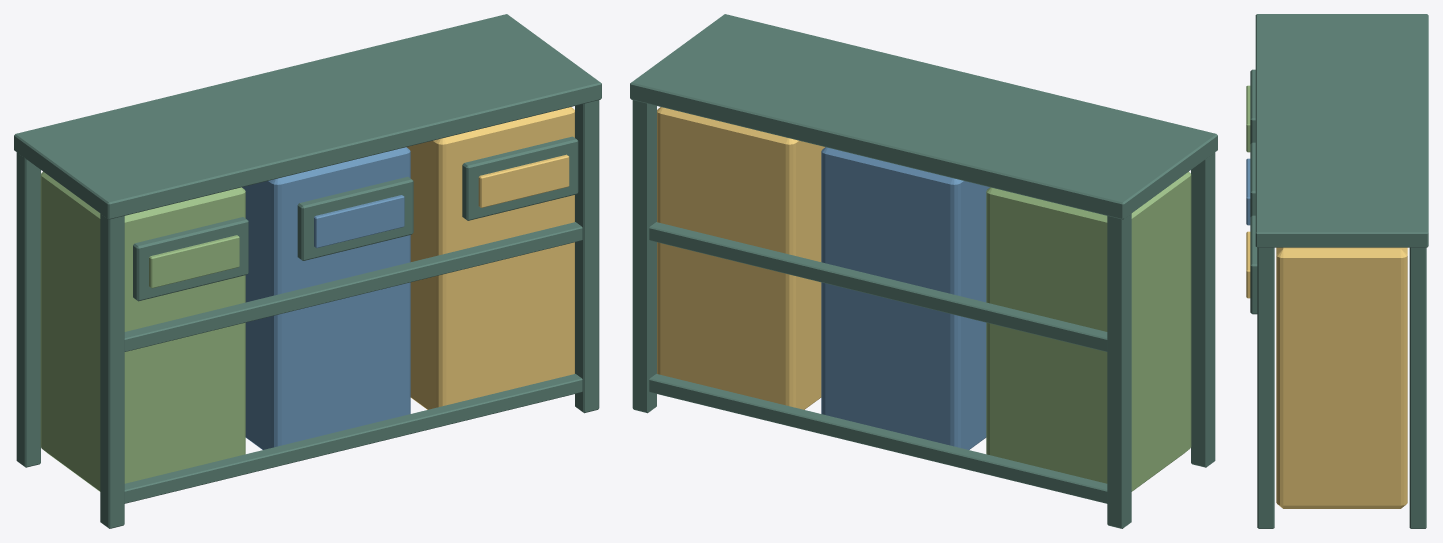
3 views of the same model, side by side, from view 1: azimuth 30°, elevation 25°; view 2: azimuth 150°, elevation 25°; view 3: azimuth 270°, elevation 25° (orthographic). The views are drawn at different scales.
Visible parts, largest first — view 1: recycling-station; view 2: recycling-station; view 3: recycling-station.
Part boxes in pixels (x1,y1,x2,y2): recycling-station: (14, 14, 601, 528); recycling-station: (630, 14, 1217, 528); recycling-station: (1246, 14, 1428, 528).
Bounding box in the file's own units: 1.5 × 0.9501 × 0.5265.
